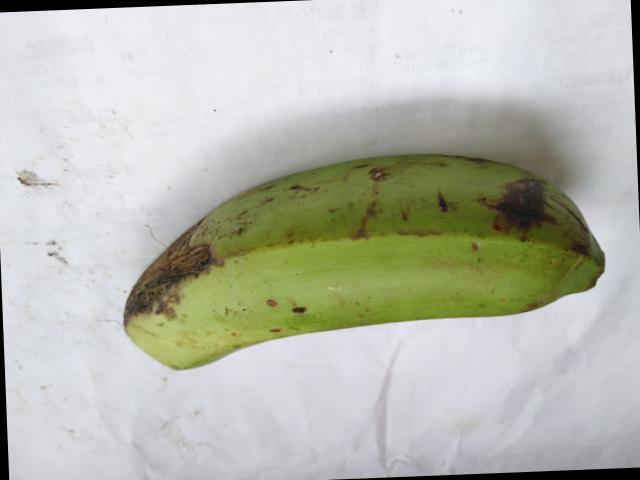rotten: (85, 214, 239, 345)
unripe: (73, 135, 595, 427)
